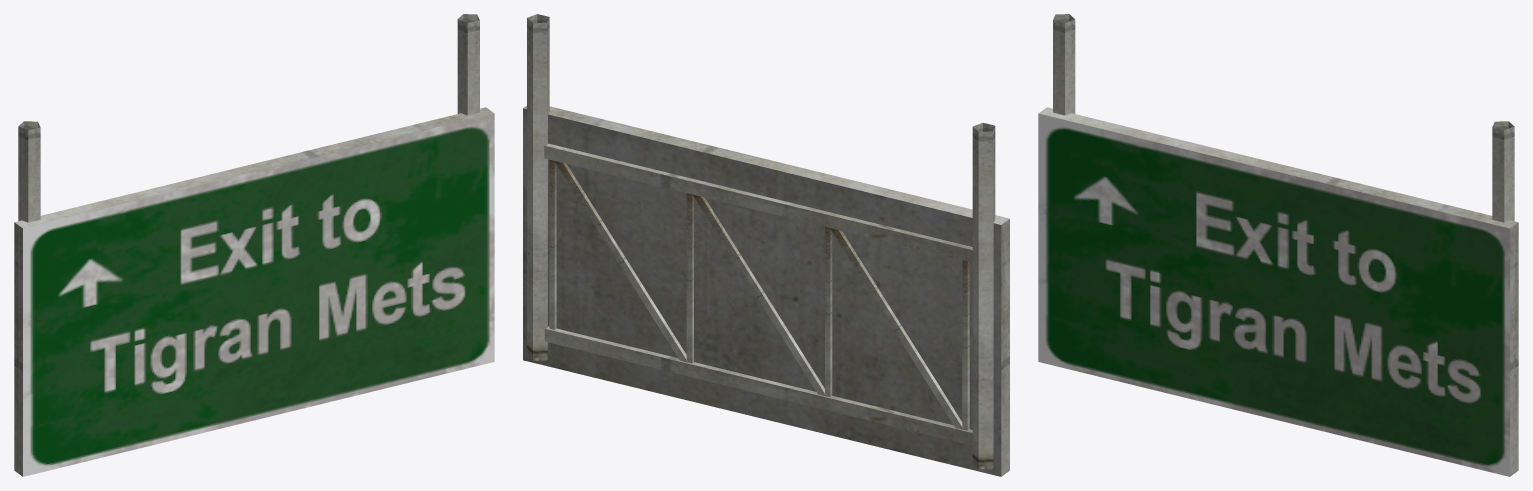
The model's file is hanging_strname.fbx.
3 renders of one model, left to right at view 1: azimuth 30°, elevation 25°; view 2: azimuth 150°, elevation 25°; view 3: azimuth 330°, elevation 25°, orthographic.
Parts seen in each view (by area): view 1: Cube.000; view 2: Cube.000; view 3: Cube.000.
Boxes of the visible parts, x1=… form: Cube.000: x1=14, y1=14, x2=494, y2=476; Cube.000: x1=523, y1=14, x2=1009, y2=476; Cube.000: x1=1038, y1=14, x2=1518, y2=476.
Size of the model in its own units: 446 by 308 by 24.39.
